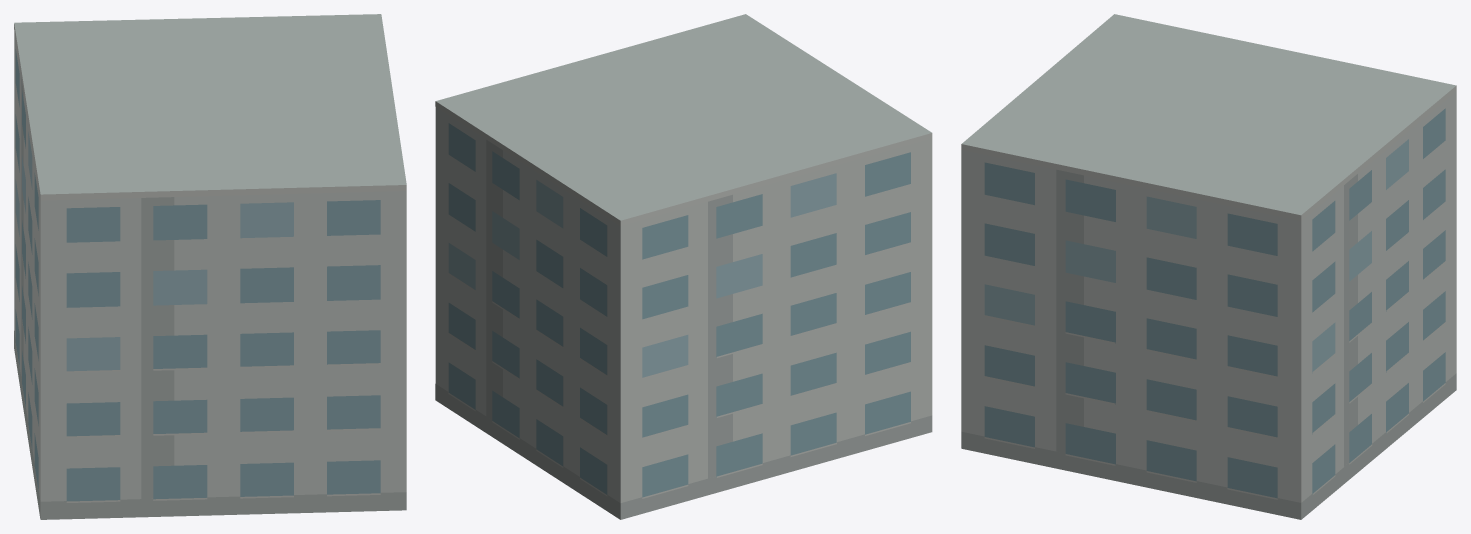
The model's file is survey-upis-33041401.glb.
The picture shows the model from 3 angles, left to right: view 1: azimuth 30°, elevation 25°; view 2: azimuth 150°, elevation 25°; view 3: azimuth 270°, elevation 25°; orthographic projection. The views are drawn at different scales.
Parts seen in each view (by area): view 1: survey-upis-33041401.tmp; view 2: survey-upis-33041401.tmp; view 3: survey-upis-33041401.tmp.
Part boxes in pixels (bbox=[...]): survey-upis-33041401.tmp: bbox=[14, 14, 406, 519]; survey-upis-33041401.tmp: bbox=[435, 14, 932, 519]; survey-upis-33041401.tmp: bbox=[961, 14, 1456, 519].
Bounding box in the file's own units: 18.57 × 13.1 × 19.31.
